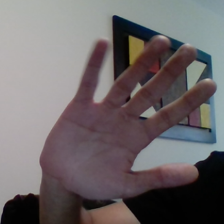left: (36, 27, 219, 204)
